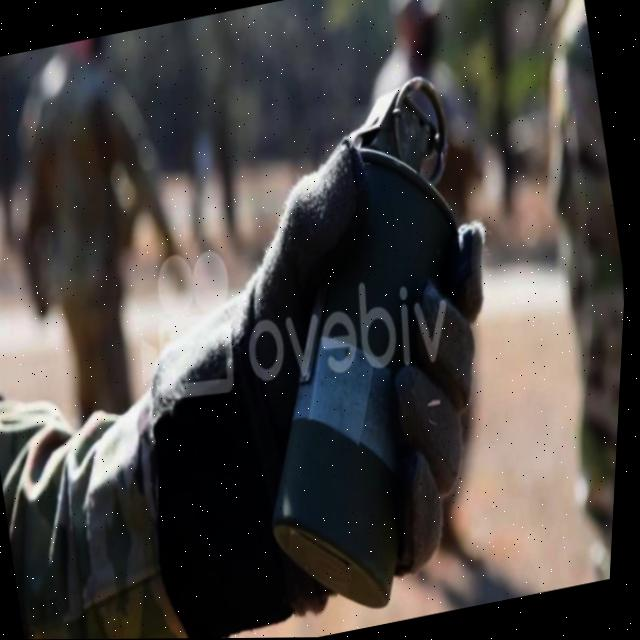grenade: (186, 53, 561, 628)
